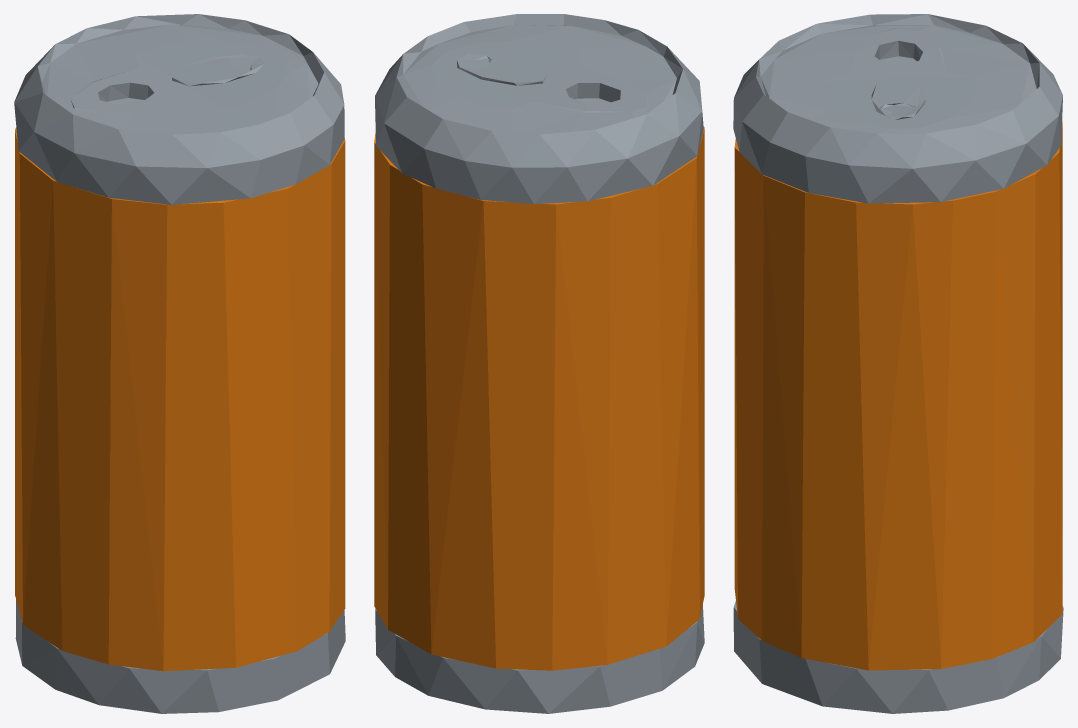
3 views of the same model, side by side, from view 1: azimuth 30°, elevation 25°; view 2: azimuth 150°, elevation 25°; view 3: azimuth 270°, elevation 25° (orthographic).
Parts seen in each view (by area): view 1: Cylinder, Cylinder.002; view 2: Cylinder, Cylinder.002; view 3: Cylinder, Cylinder.002.
Boxes of the visible parts, x1,y1,x2,y2 form: Cylinder: (15, 128, 345, 671); Cylinder.002: (14, 14, 345, 713); Cylinder: (374, 126, 704, 670); Cylinder.002: (375, 14, 704, 713); Cylinder: (734, 121, 1062, 670); Cylinder.002: (733, 14, 1063, 713).
Bounding box in the file's own units: 15.55 × 29.61 × 15.53.
